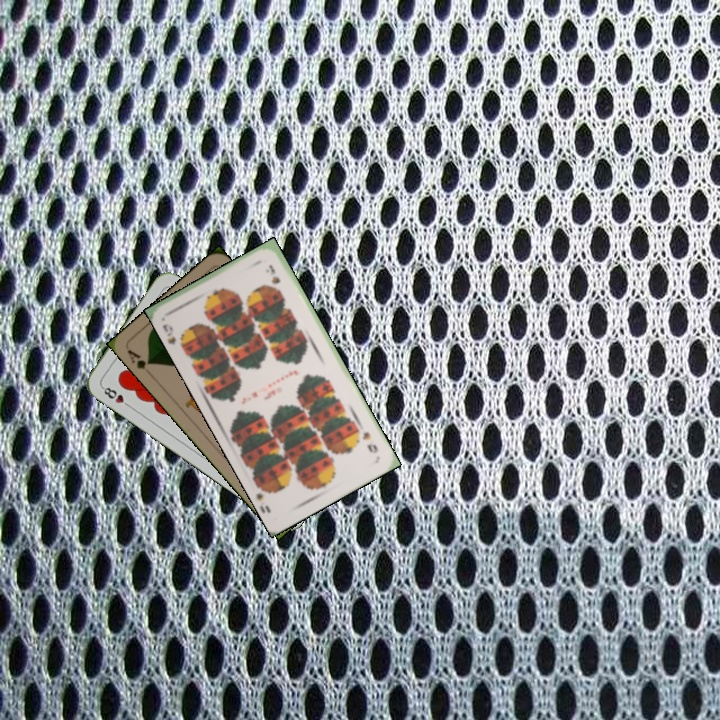GA: (123, 345, 155, 372)
H8: (98, 382, 134, 410)
S9: (159, 319, 186, 352), (358, 428, 381, 456)
